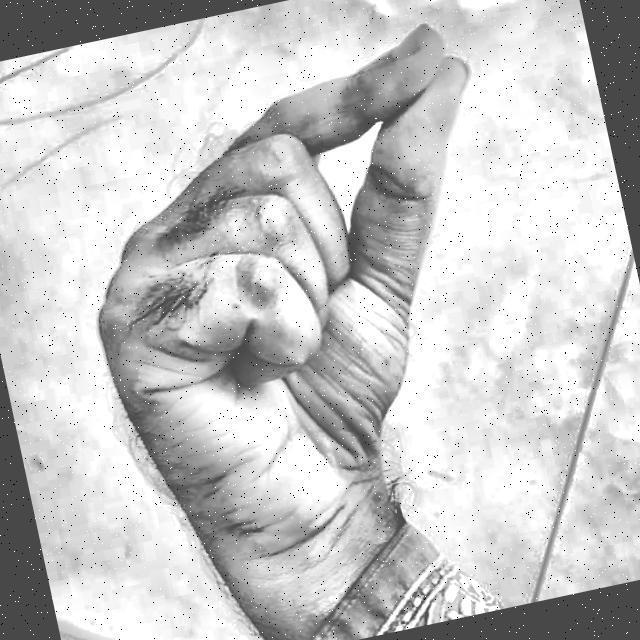Anusshar: (47, 3, 598, 640)
